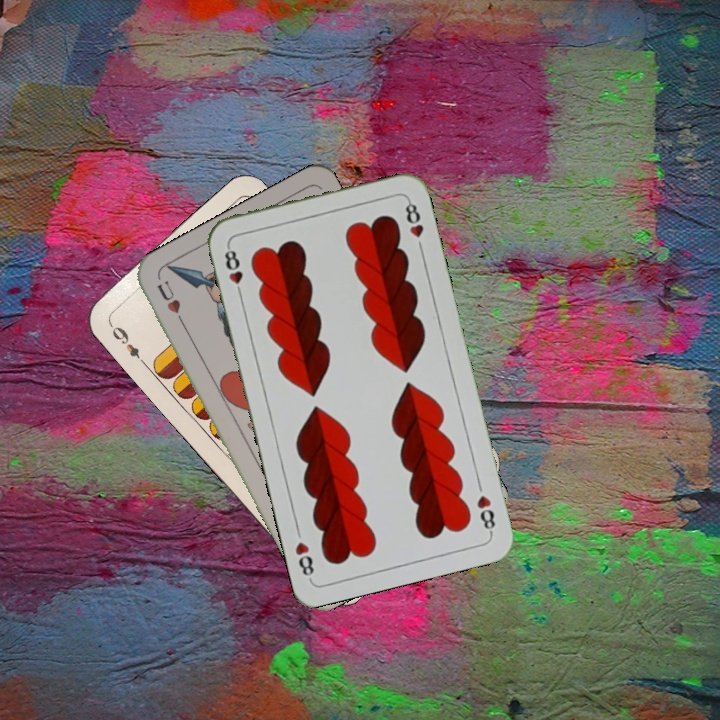E9: (104, 318, 148, 367)
H8: (220, 242, 246, 300), (473, 491, 498, 536)
HU: (153, 277, 189, 330)
